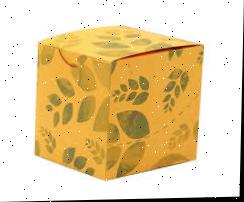cube: (34, 24, 204, 180)
